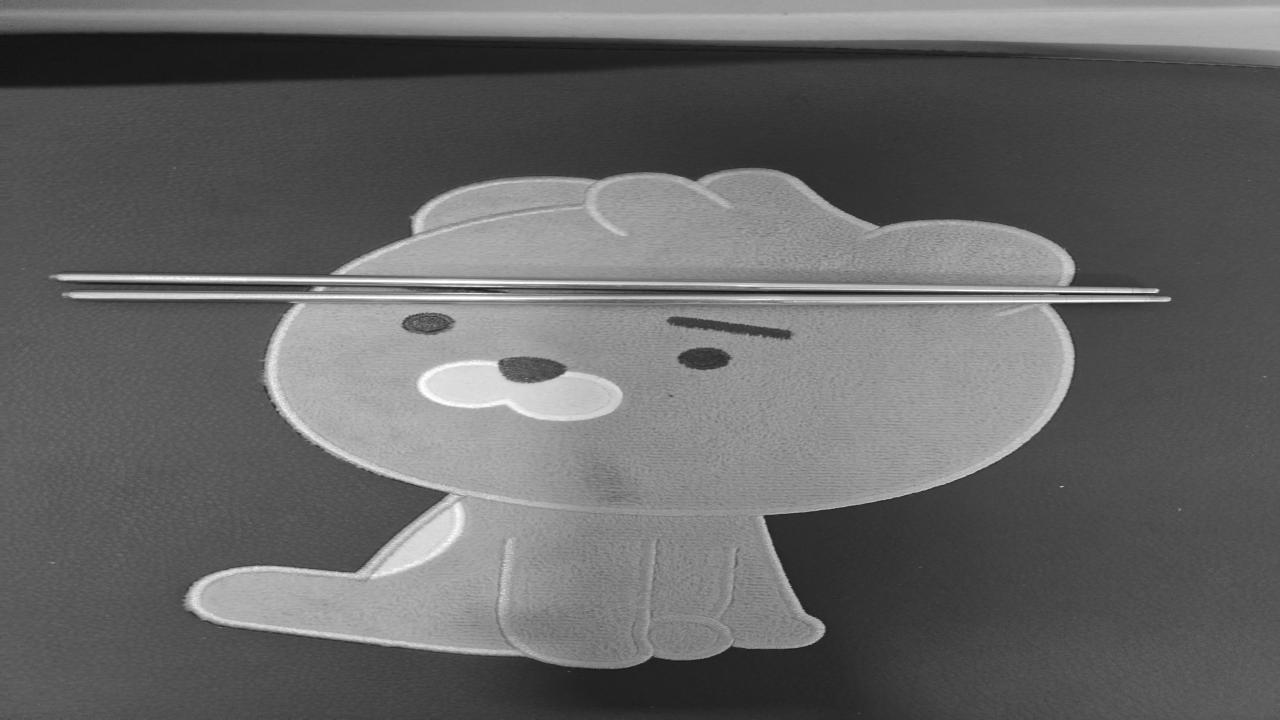chopstick: (38, 270, 1179, 308)
